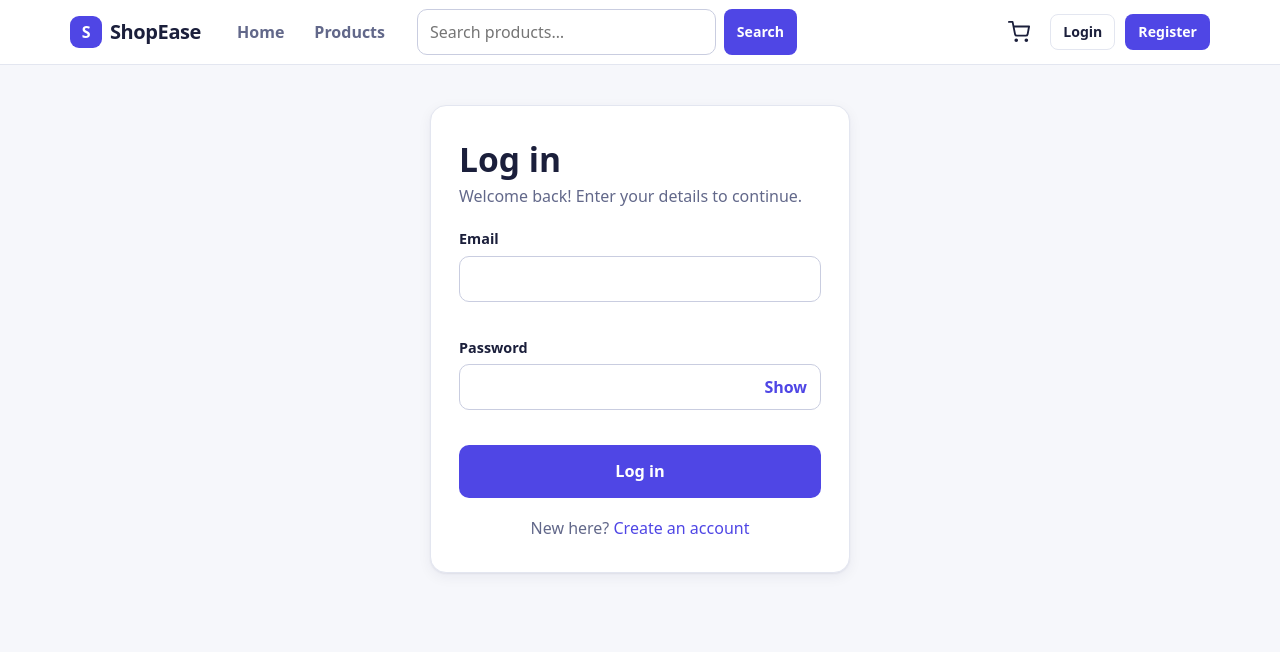
Test case: access control and resilience › shows the admin dashboard to an admin
This screenshot has width=1280, height=652.
Type "admin@x.com" into the field labelled "Email".
click(640, 279); type("admin@x.com")  # box [459,256,821,302]
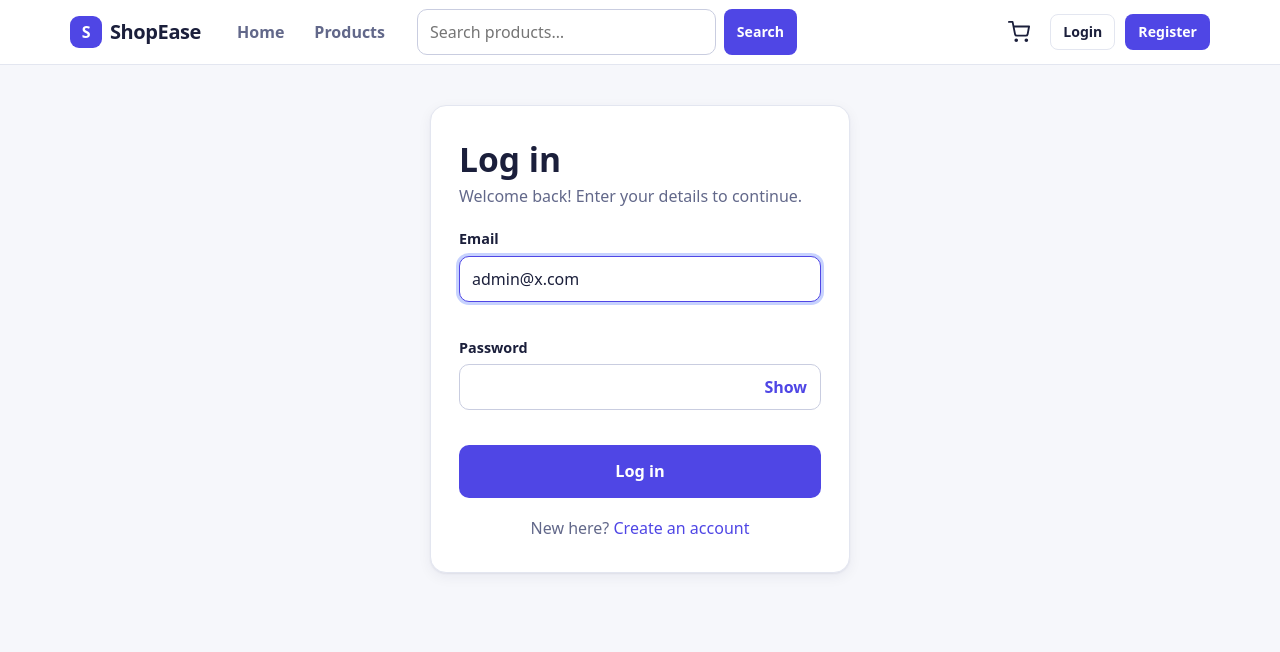
Type "AdminPass1234" into the password field labelled "Password".
click(640, 387); type("AdminPass1234")  # box [459,364,821,410]
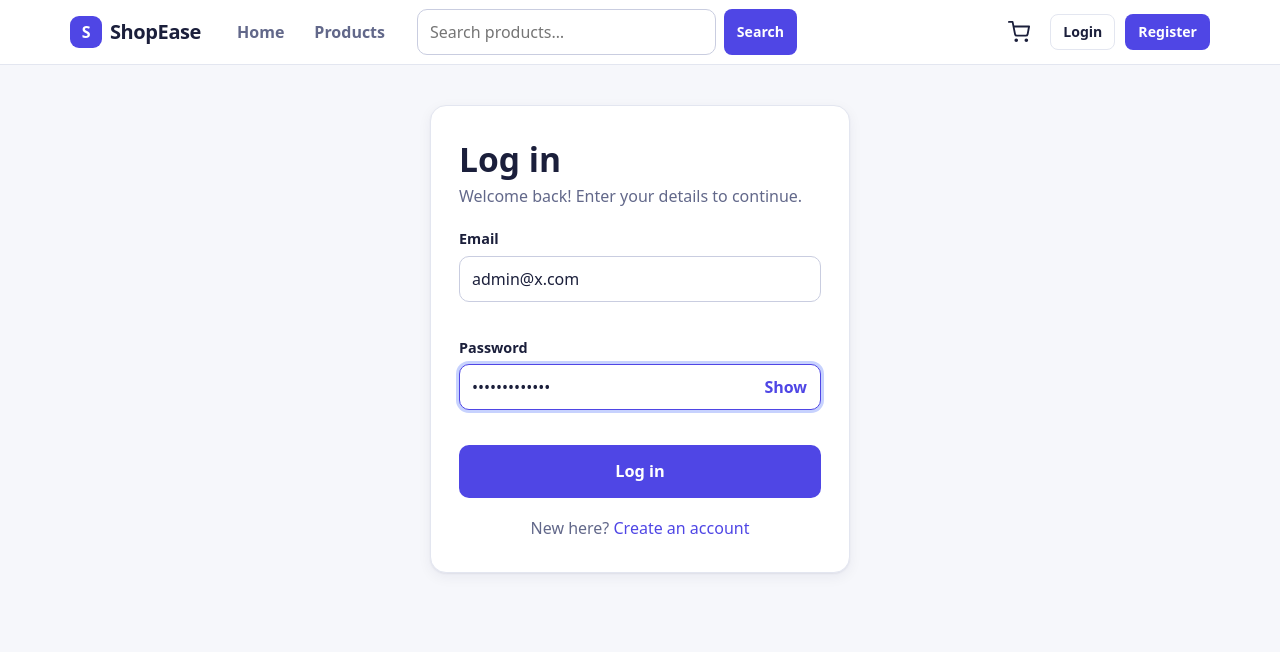
Click the button "Log in".
click(640, 471)  # box [459,445,821,498]
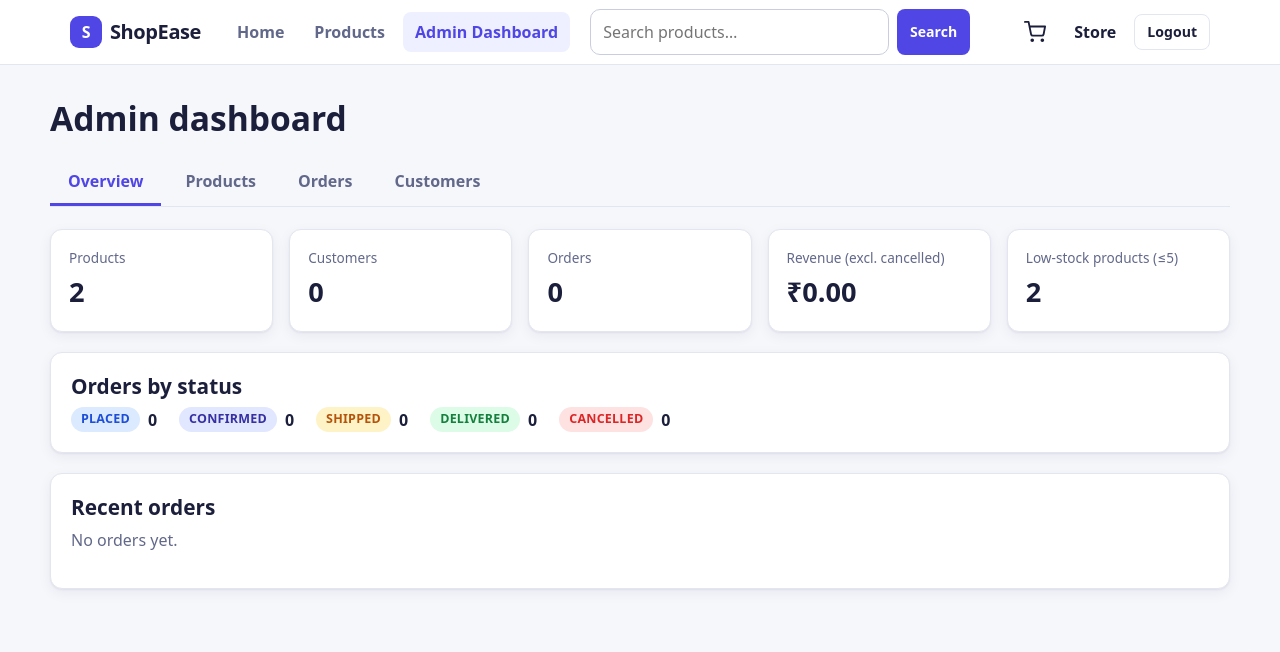
Expected: the heading "Admin dashboard" is shown, [50,95,347,141]
Expected: the text "Revenue (excl. cancelled)" is shown, [787,248,972,268]
